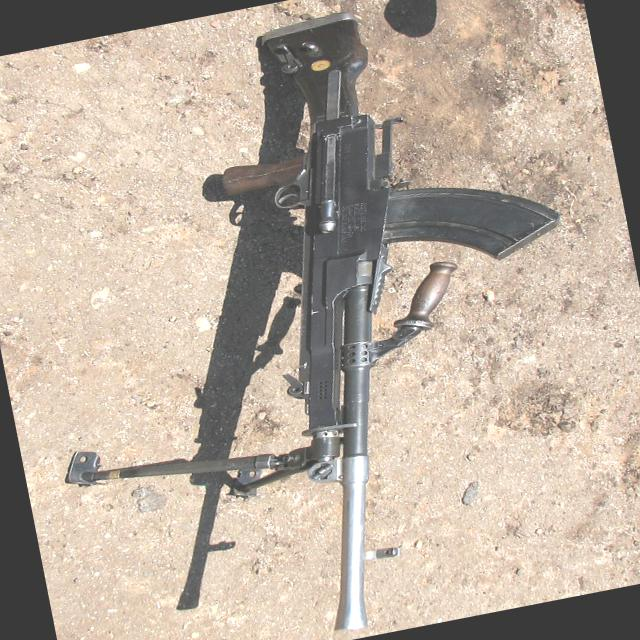long weapon: (36, 0, 507, 639)
